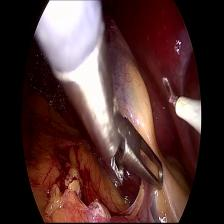Grasper: (61, 80, 162, 208)
Hook: (160, 76, 202, 138)
